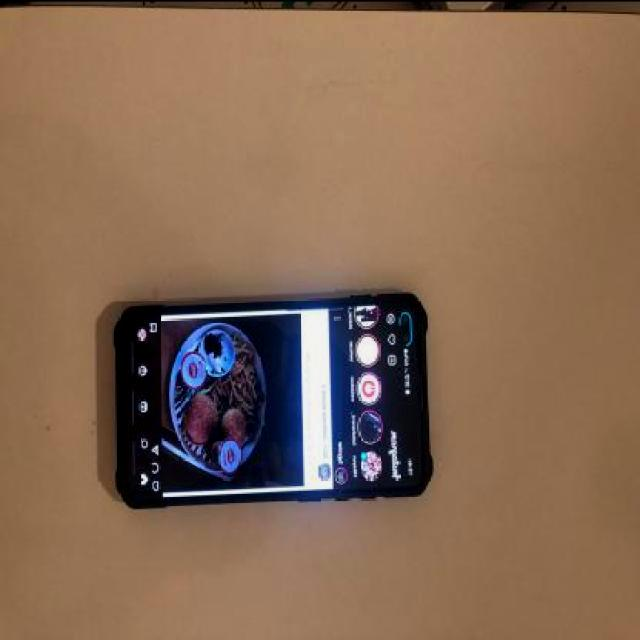phone: (110, 288, 436, 504)
